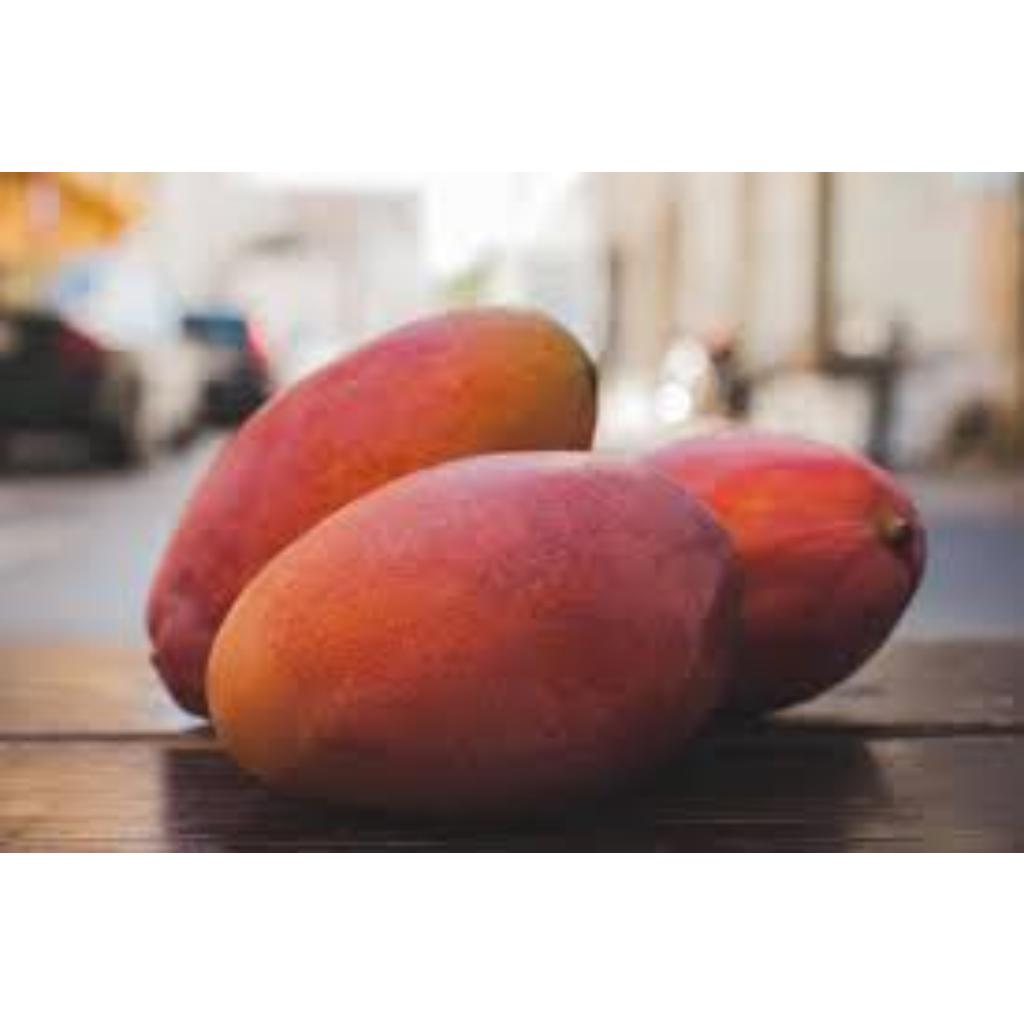mango: (201, 454, 745, 815), (142, 303, 596, 727), (642, 430, 928, 714)
